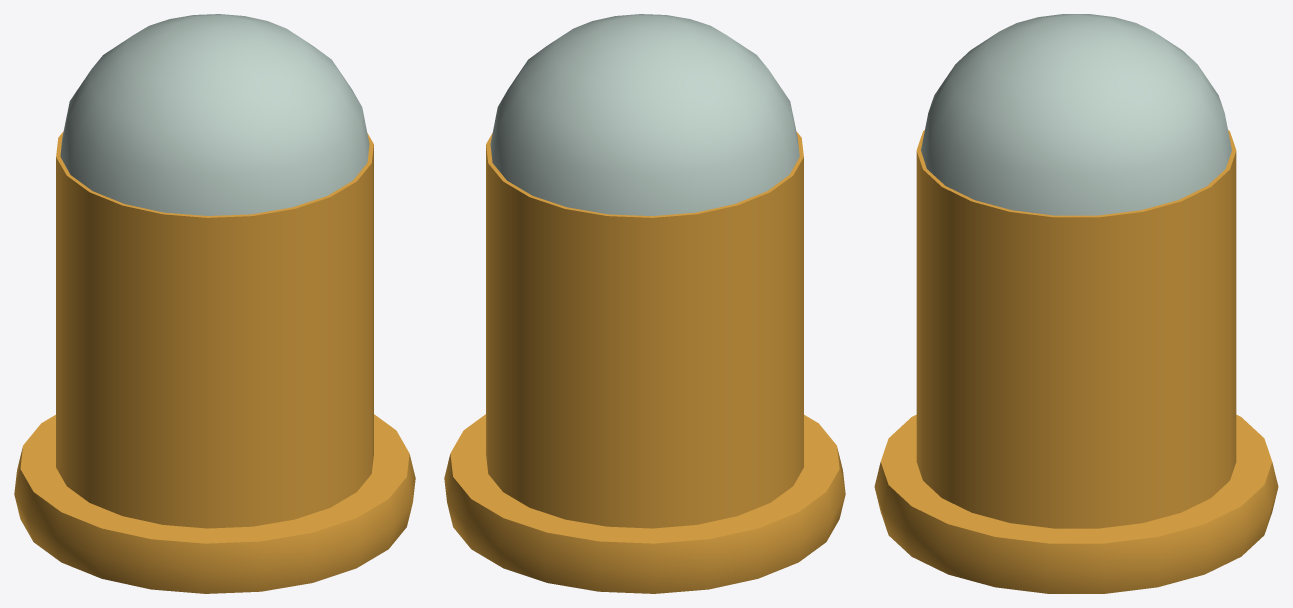
File: ammo1-food.fbx
3 views of the same model, side by side, from view 1: azimuth 30°, elevation 25°; view 2: azimuth 150°, elevation 25°; view 3: azimuth 270°, elevation 25° (orthographic).
Parts seen in each view (by area): view 1: ammo1-food; view 2: ammo1-food; view 3: ammo1-food.
Boxes of the visible parts, x1,y1,x2,y2 form: ammo1-food: (14,14,415,593); ammo1-food: (444,14,845,593); ammo1-food: (874,14,1278,593).
Size of the model in its own units: 0.0138 by 0.0184 by 0.0139.
